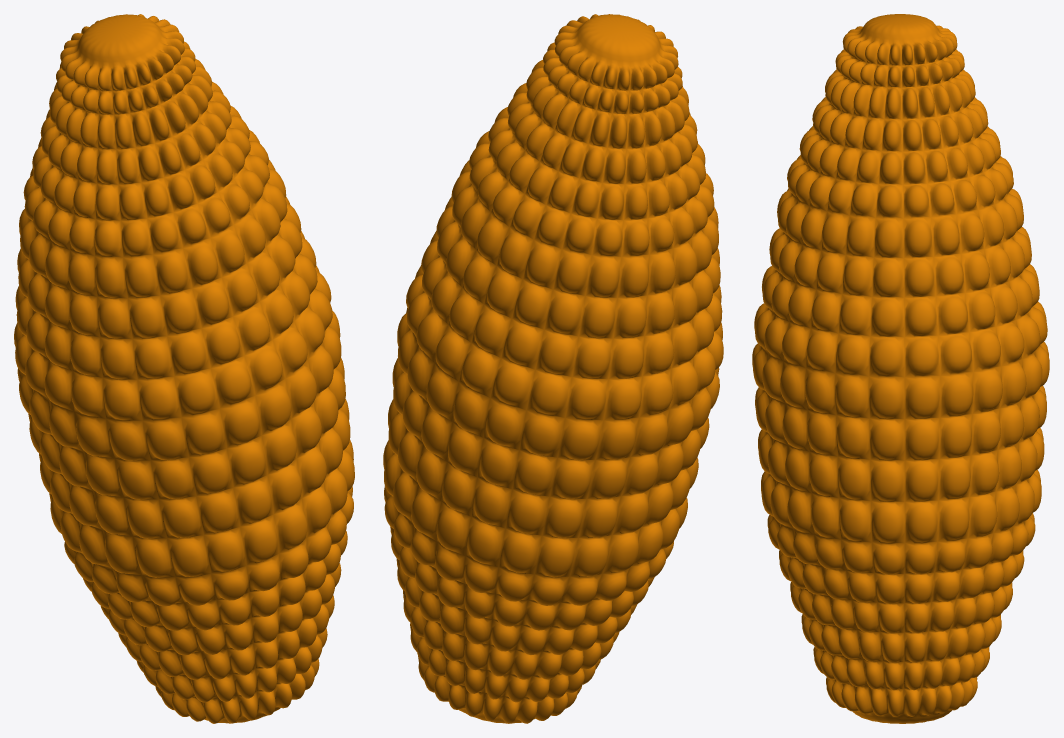
The model's file is corn_body.obj.
3 views of the same model, side by side, from view 1: azimuth 30°, elevation 25°; view 2: azimuth 150°, elevation 25°; view 3: azimuth 270°, elevation 25° (orthographic). The views are drawn at different scales.
Parts seen in each view (by area): view 1: Cylinder.121_Cylinder.389; view 2: Cylinder.121_Cylinder.389; view 3: Cylinder.121_Cylinder.389.
Part boxes in pixels (box(x1,y1,x2,y2)): Cylinder.121_Cylinder.389: box(14, 14, 354, 723); Cylinder.121_Cylinder.389: box(383, 14, 723, 723); Cylinder.121_Cylinder.389: box(752, 14, 1049, 723).
Bounding box in the file's own units: 2.79 × 6.35 × 2.64.
